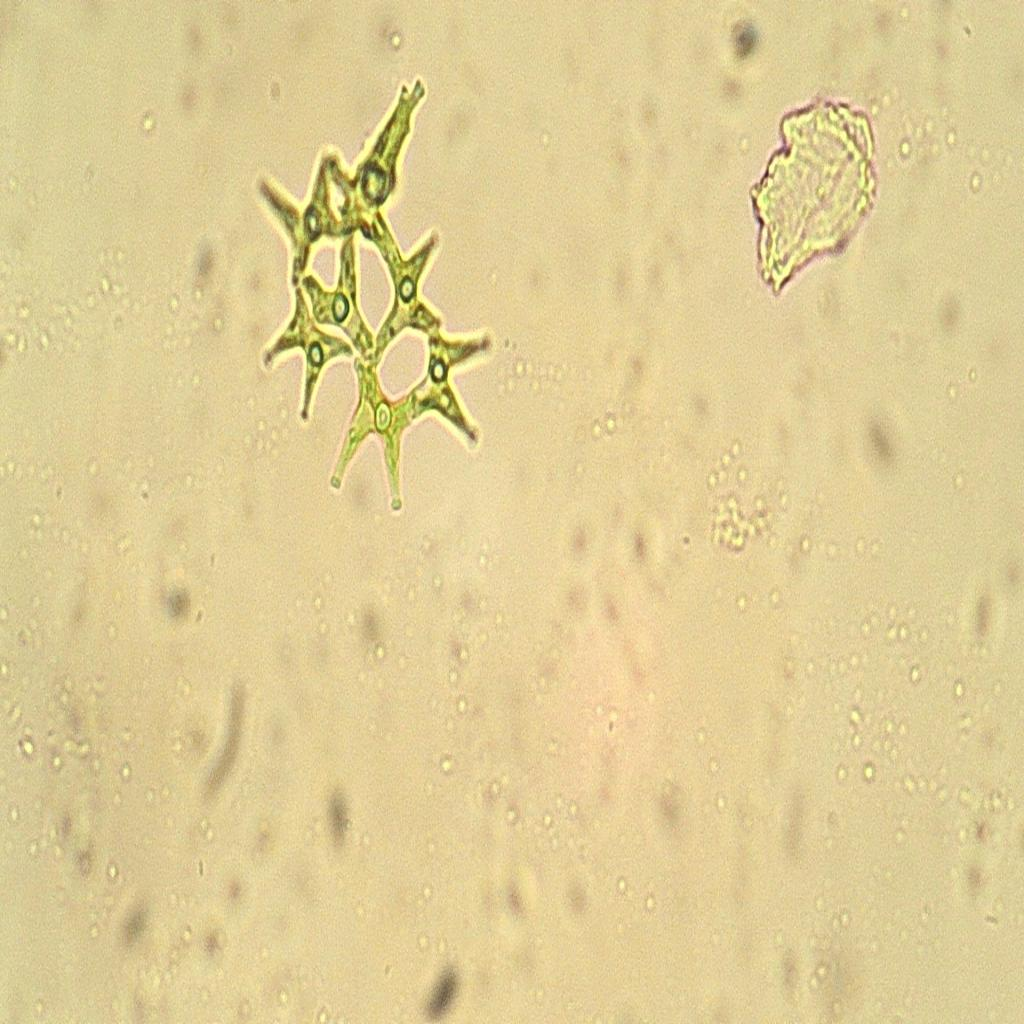Pediastrum_1TH: (245, 64, 504, 537)
